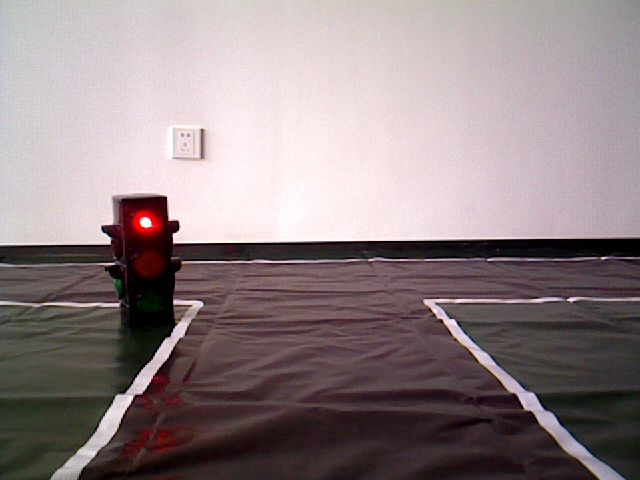red: (109, 202, 172, 320)
